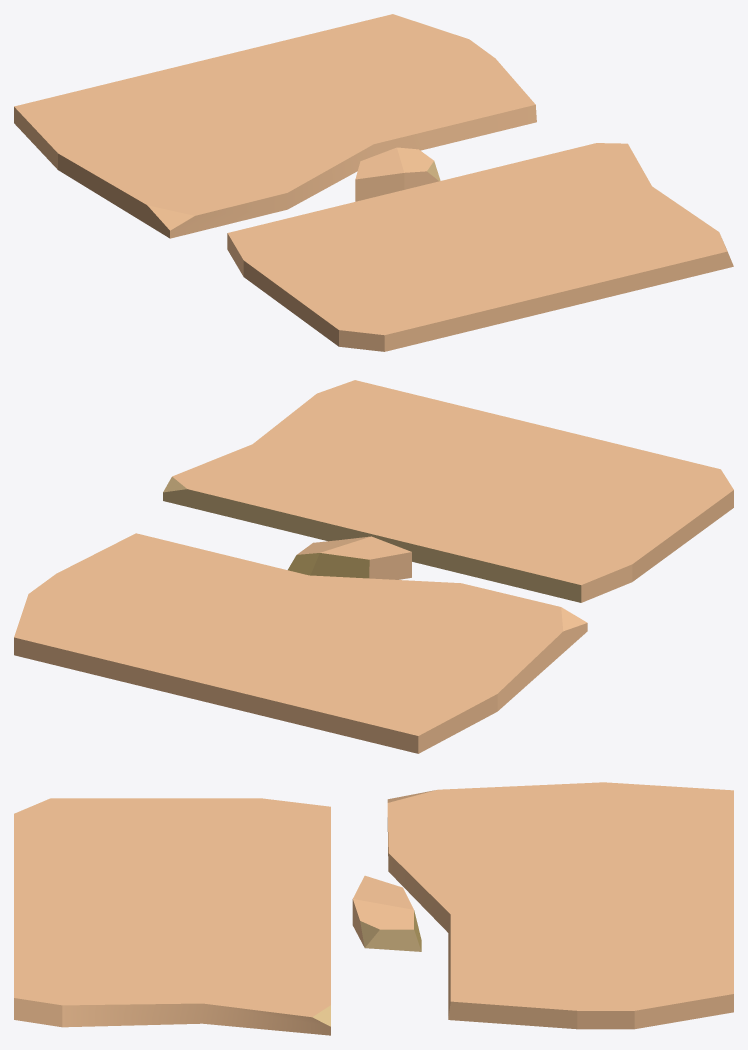
File: Ground.fbx
3 views of the same model, one above another, from view 1: azimuth 30°, elevation 25°; view 2: azimuth 150°, elevation 25°; view 3: azimuth 270°, elevation 25° (orthographic). The views are drawn at different scales.
Parts seen in each view (by area): view 1: Ground1; view 2: Ground1; view 3: Ground1.
Part boxes in pixels (x1=…): Ground1: x1=14, y1=14, x2=733, y2=351; Ground1: x1=14, y1=380, x2=733, y2=753; Ground1: x1=14, y1=782, x2=733, y2=1035.
Size of the model in its own units: 2458 by 130 by 3182.
